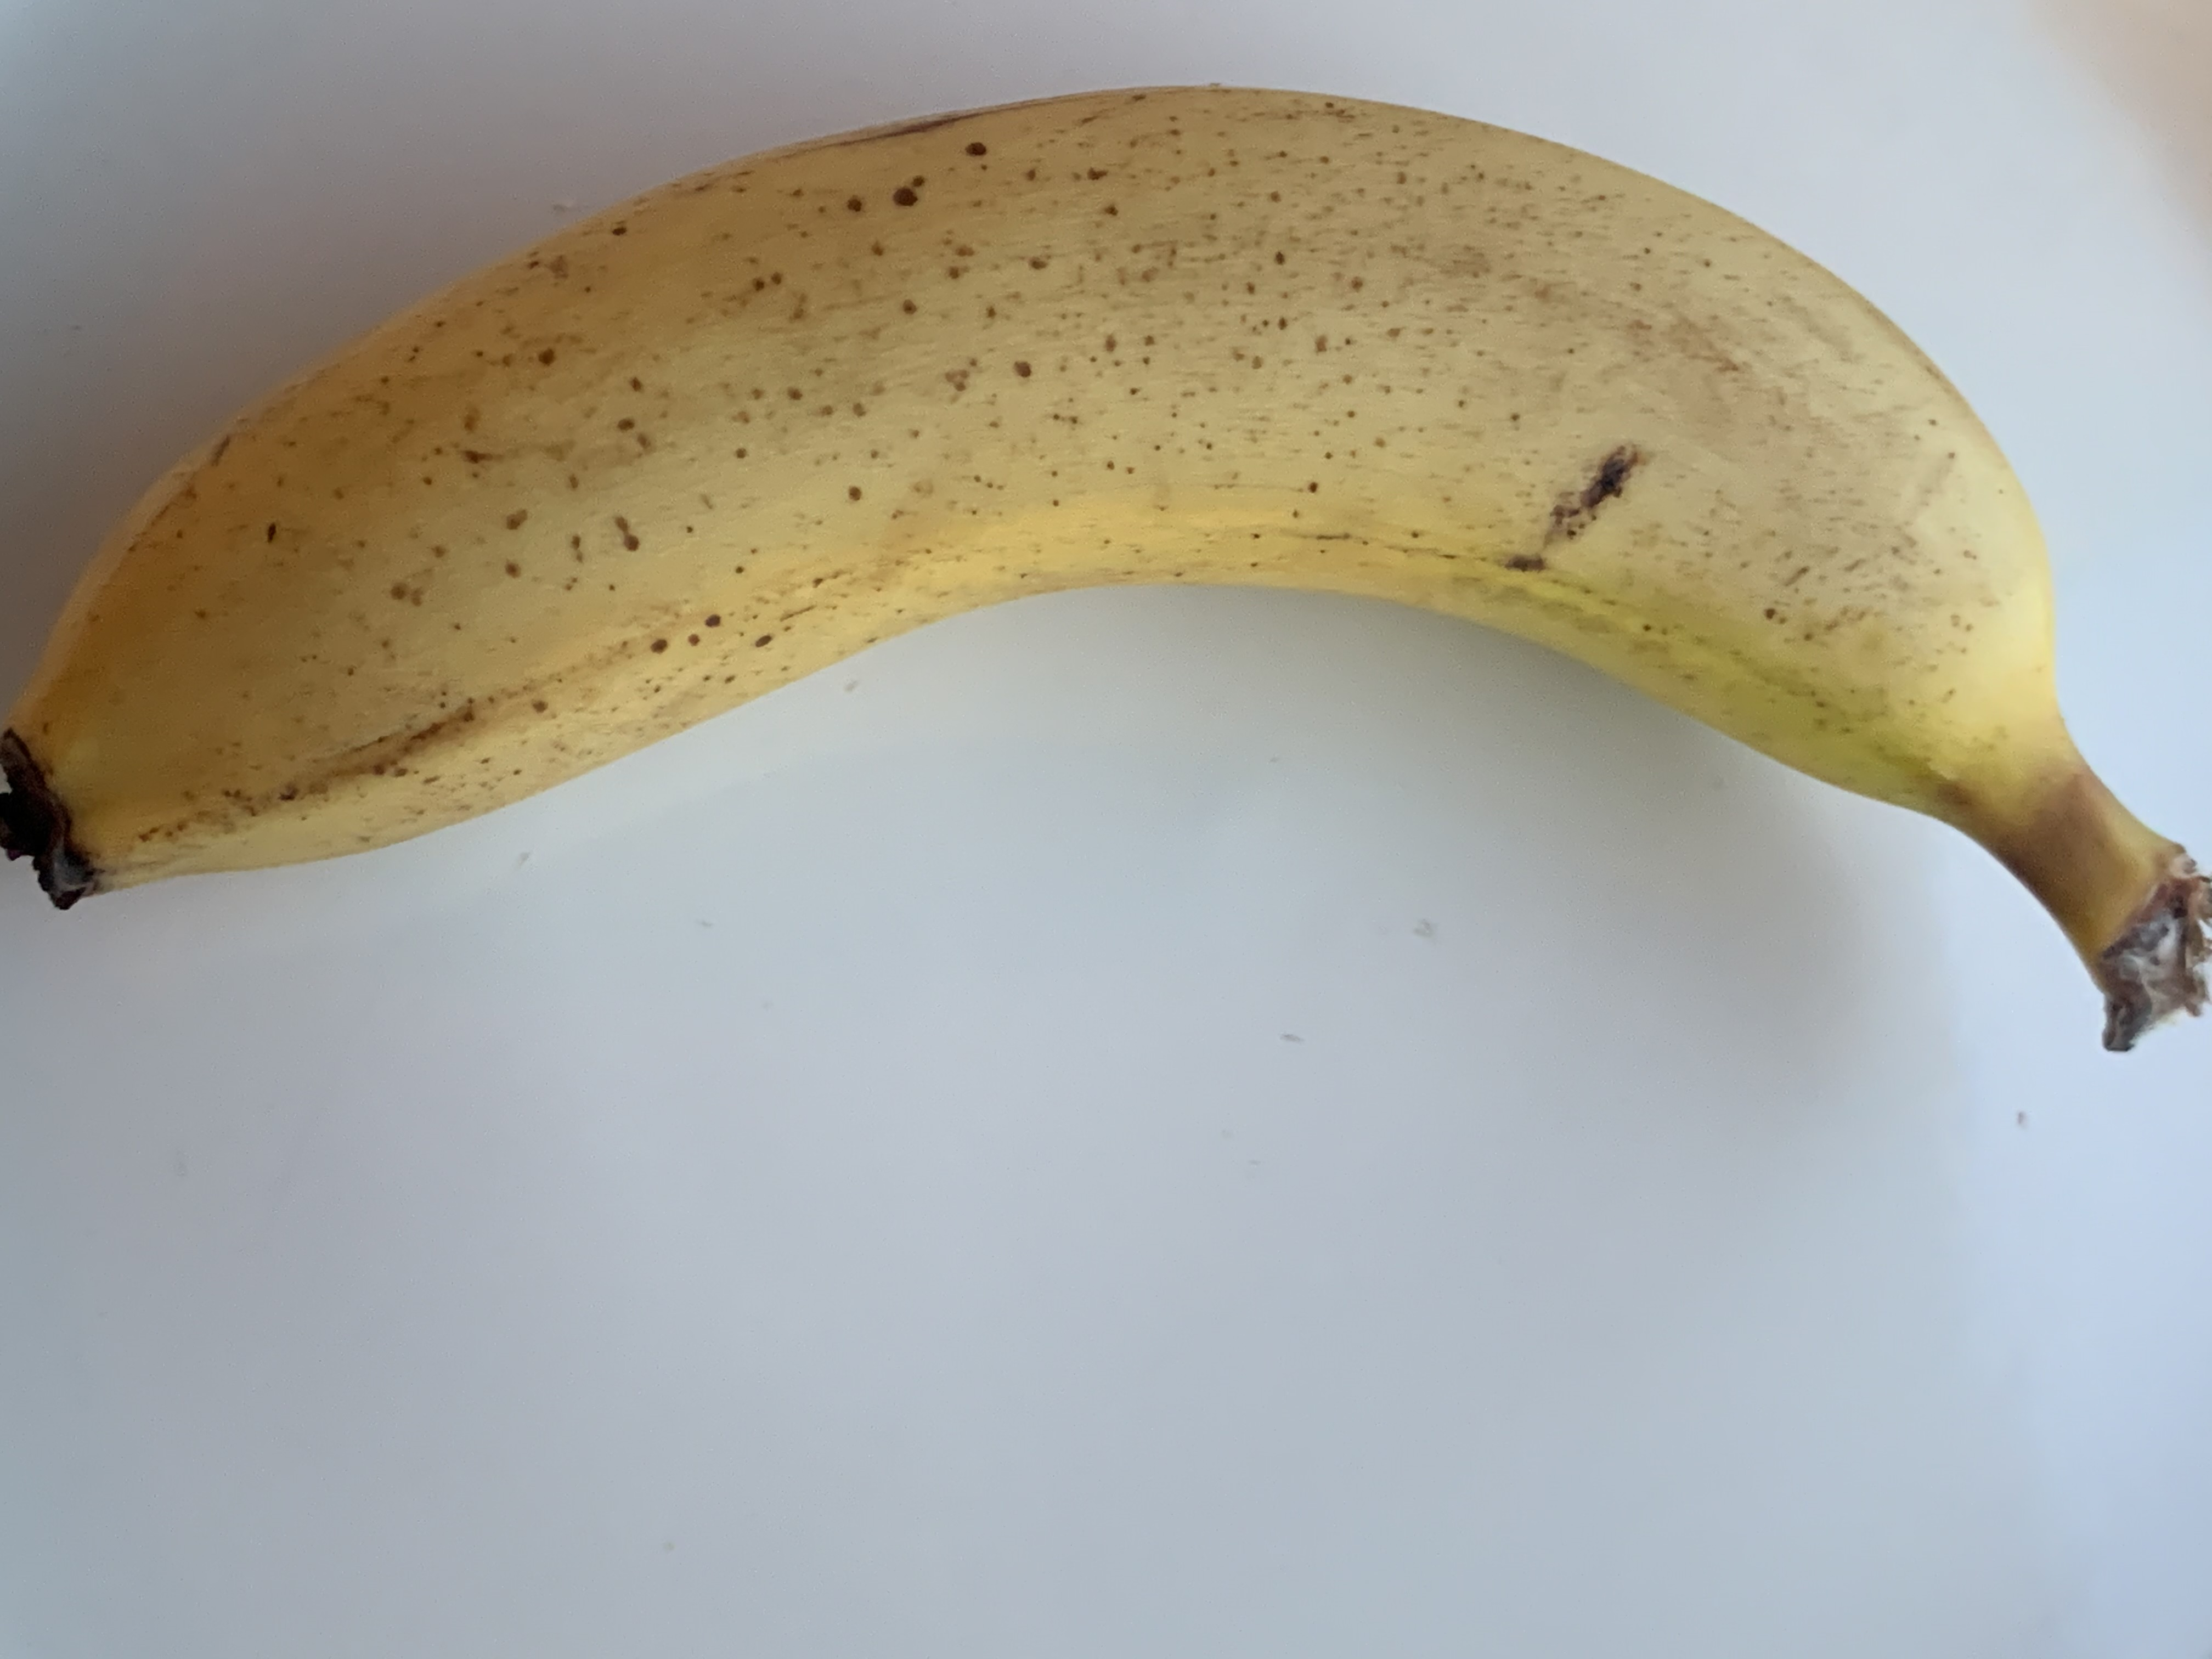banana: (23, 73, 2212, 1173)
